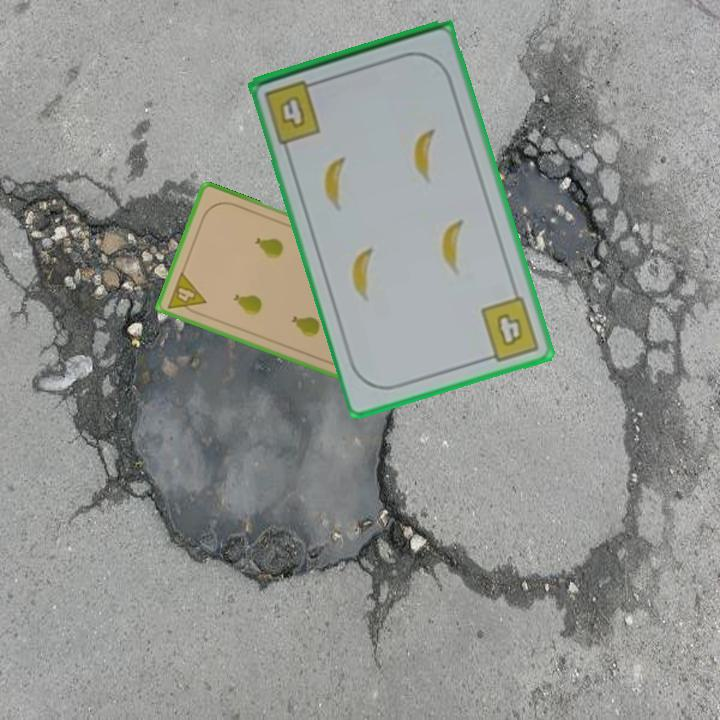4b: (477, 293, 543, 365), (260, 76, 325, 147)
4p: (164, 268, 209, 319)
